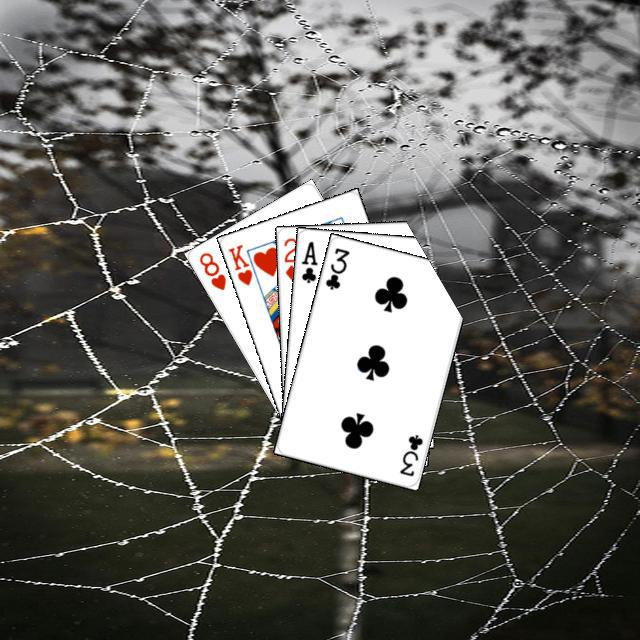2d: (279, 233, 300, 282)
3c: (320, 243, 351, 292), (395, 429, 424, 478)
8h: (194, 247, 228, 292)
Ac: (296, 236, 319, 285)
Kh: (223, 239, 262, 288)
